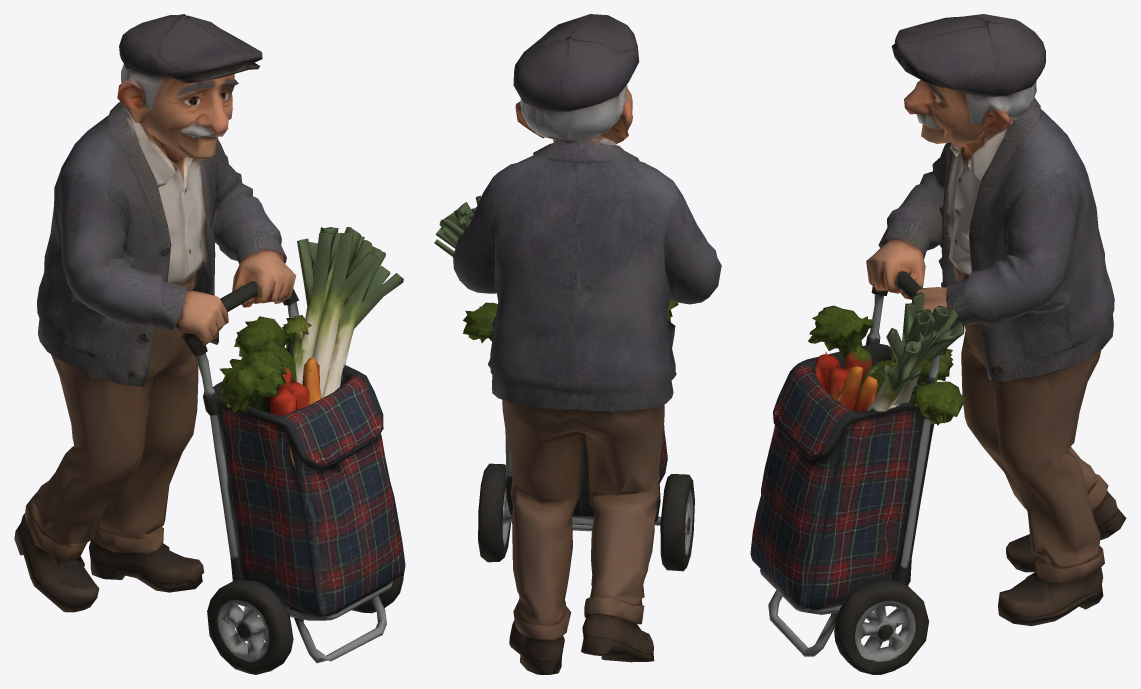
The model's file is npc_grandpa.glb.
3 views of the same model, side by side, from view 1: azimuth 30°, elevation 25°; view 2: azimuth 150°, elevation 25°; view 3: azimuth 270°, elevation 25° (orthographic).
Parts seen in each view (by area): view 1: tripo_node_6c9ac9e1-f036-47c5-a783-a41d35f60b44; view 2: tripo_node_6c9ac9e1-f036-47c5-a783-a41d35f60b44; view 3: tripo_node_6c9ac9e1-f036-47c5-a783-a41d35f60b44.
Boxes of the visible parts, x1,y1,x2,y2 form: tripo_node_6c9ac9e1-f036-47c5-a783-a41d35f60b44: (14,14,405,674); tripo_node_6c9ac9e1-f036-47c5-a783-a41d35f60b44: (434,14,721,674); tripo_node_6c9ac9e1-f036-47c5-a783-a41d35f60b44: (750,14,1126,674).
Size of the model in its own units: 0.9002 by 1.68 by 0.9724.
1 material, 1 textured.
